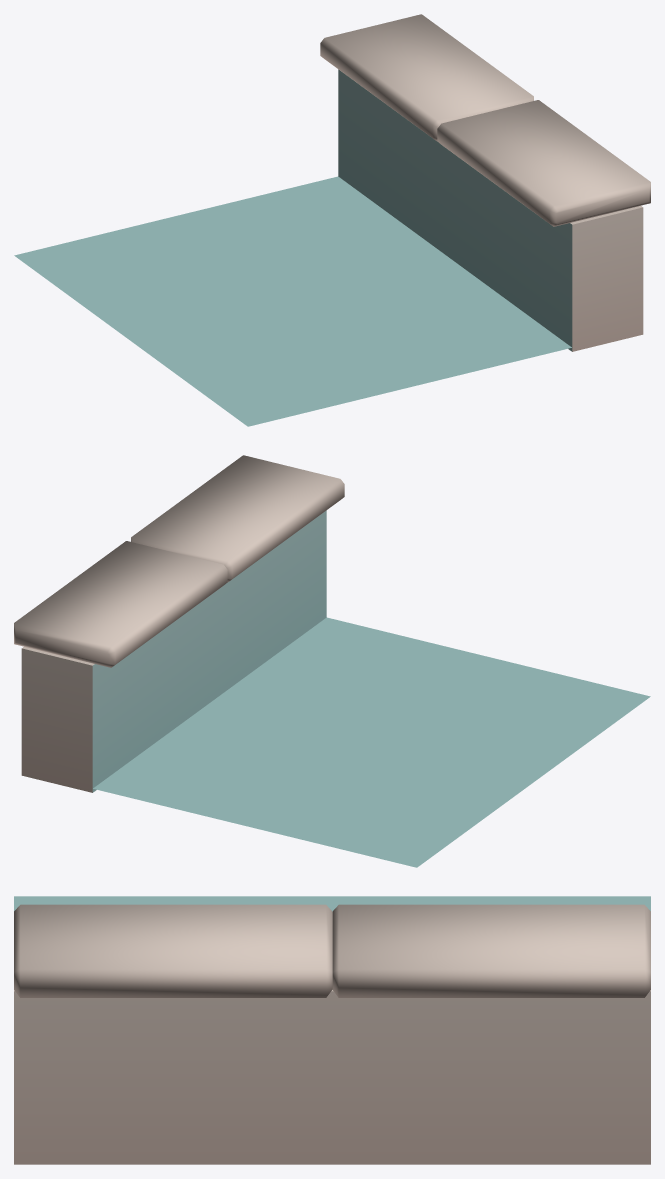
Rendered from pool-side.glb.
The picture shows the model from 3 angles, top to bottom: view 1: azimuth 30°, elevation 25°; view 2: azimuth 150°, elevation 25°; view 3: azimuth 270°, elevation 25°; orthographic projection. The views are drawn at different scales.
Visible parts, largest first — view 1: pool-side; view 2: pool-side; view 3: pool-side.
Part boxes in pixels (x1,y1,x2,y2): pool-side: (14,14,650,426); pool-side: (14,455,650,867); pool-side: (14,896,650,1164).
Size of the model in its own units: 1 by 0.35 by 1.
